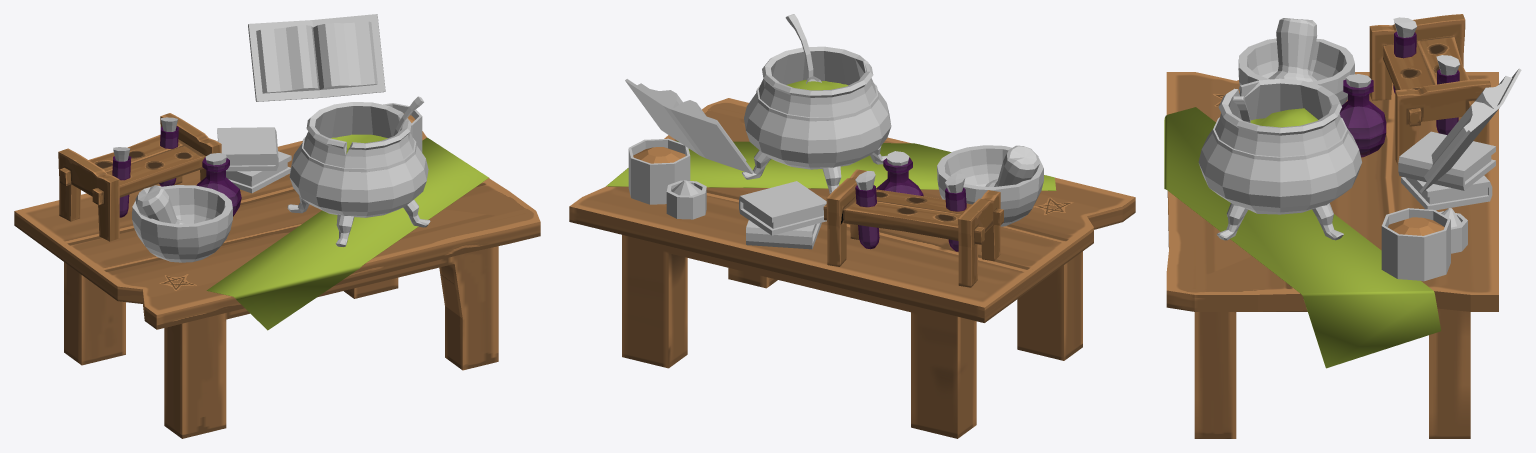
The model's file is table1.fbx.
3 views of the same model, side by side, from view 1: azimuth 30°, elevation 25°; view 2: azimuth 150°, elevation 25°; view 3: azimuth 270°, elevation 25° (orthographic). The views are drawn at different scales.
Parts seen in each view (by area): view 1: Table; view 2: Table; view 3: Table.
Part boxes in pixels (x1,y1,x2,y2): Table: (14, 14, 540, 438); Table: (569, 14, 1135, 438); Table: (1164, 14, 1521, 438).
Bounding box in the file's own units: 0.3693 × 0.2366 × 0.2481.
